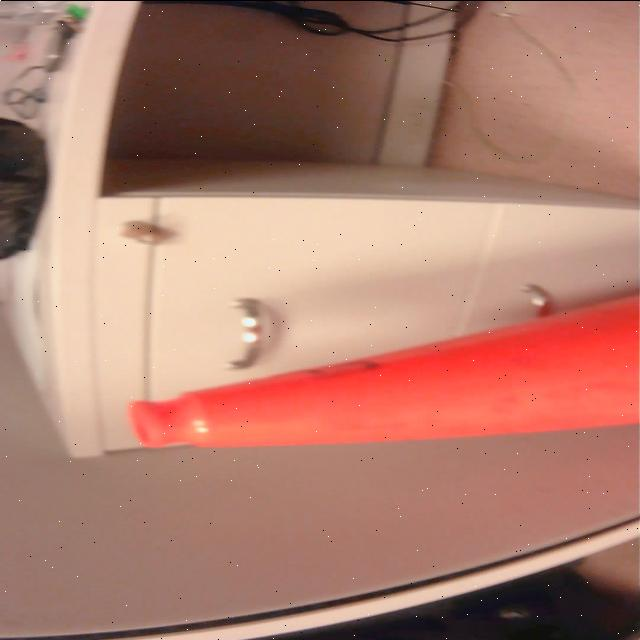traffic cone: (118, 281, 640, 457)
